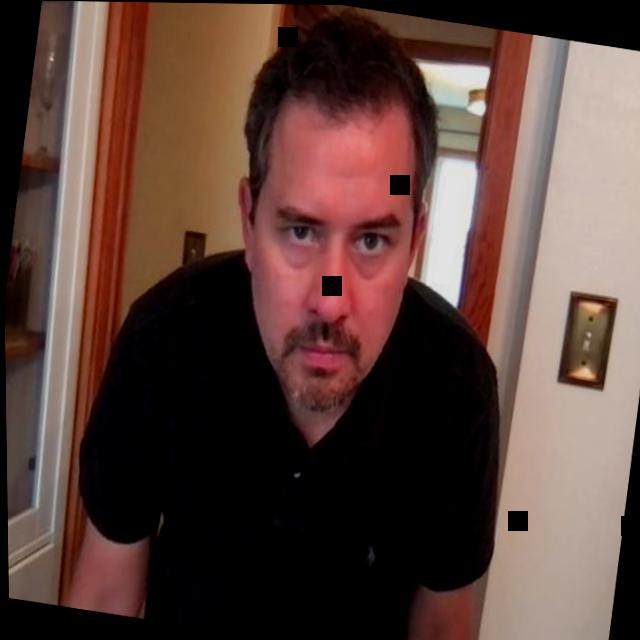NO-Mask: (203, 2, 457, 430)
